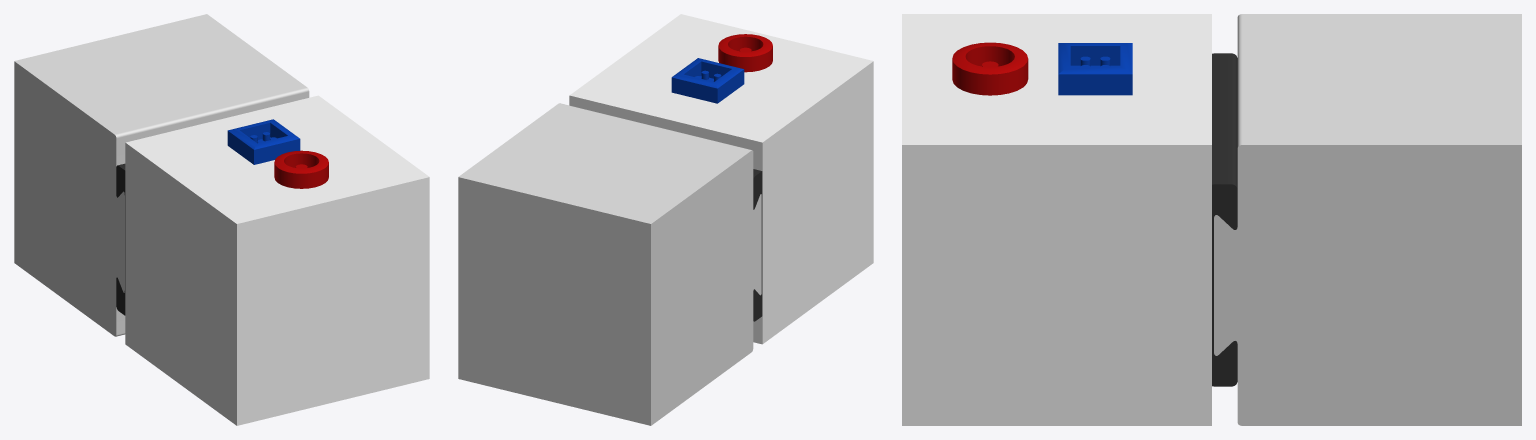
File: LinearTrack.gltf
3 renders of one model, left to right at view 1: azimuth 30°, elevation 25°; view 2: azimuth 150°, elevation 25°; view 3: azimuth 270°, elevation 25°, orthographic. The views are drawn at different scales.
Visible parts, largest first — view 1: master, slave, rail; view 2: slave, master, rail; view 3: master, slave, rail.
Part boxes in pixels (bbox=[...]): master: bbox=[125, 95, 429, 425]; slave: bbox=[14, 14, 309, 336]; rail: bbox=[116, 163, 125, 315]; slave: bbox=[458, 103, 761, 425]; master: bbox=[569, 14, 873, 344]; rail: bbox=[753, 169, 762, 321]; master: bbox=[902, 14, 1211, 425]; slave: bbox=[1214, 14, 1521, 425]; rail: bbox=[1212, 53, 1237, 386].
Bounding box in the file's own units: 0.2503 × 0.2706 × 0.5.
